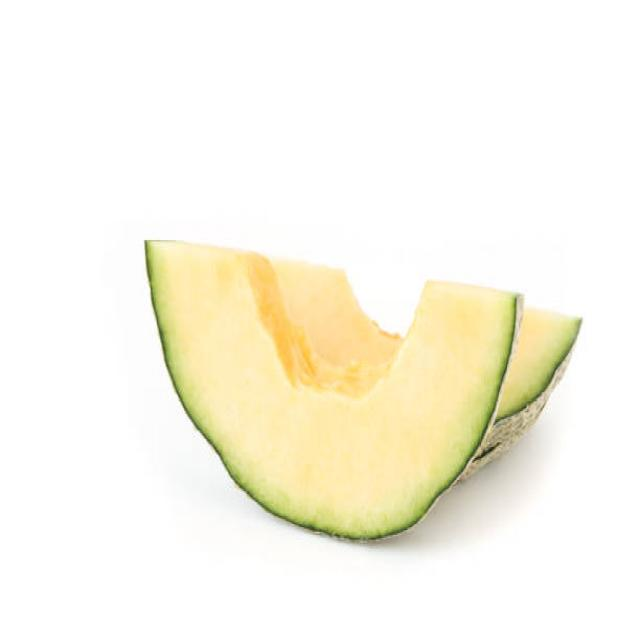melon: (139, 228, 518, 549)
